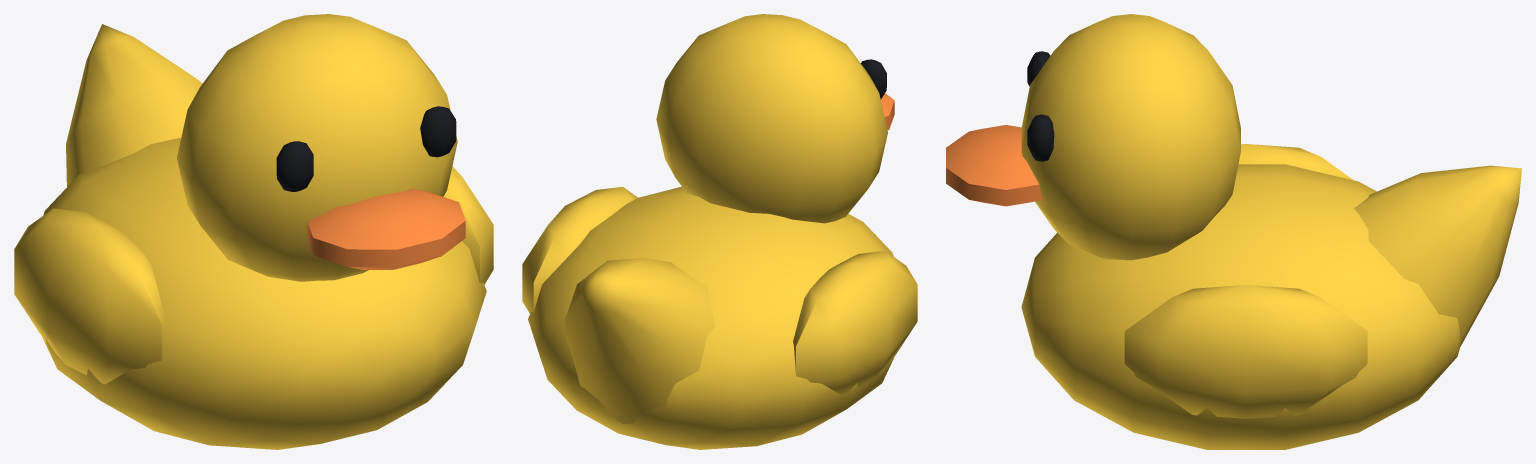
File: RubberDuck.fbx
The picture shows the model from 3 angles, left to right: view 1: azimuth 30°, elevation 25°; view 2: azimuth 150°, elevation 25°; view 3: azimuth 270°, elevation 25°; orthographic projection. The views are drawn at different scales.
Visible parts, largest first — view 1: RubberDuck; view 2: RubberDuck; view 3: RubberDuck.
Part boxes in pixels (x1,y1,x2,y2): RubberDuck: (14, 14, 493, 449); RubberDuck: (522, 14, 917, 449); RubberDuck: (946, 14, 1521, 449).
Size of the model in its own units: 0.15 by 0.15 by 0.2.
